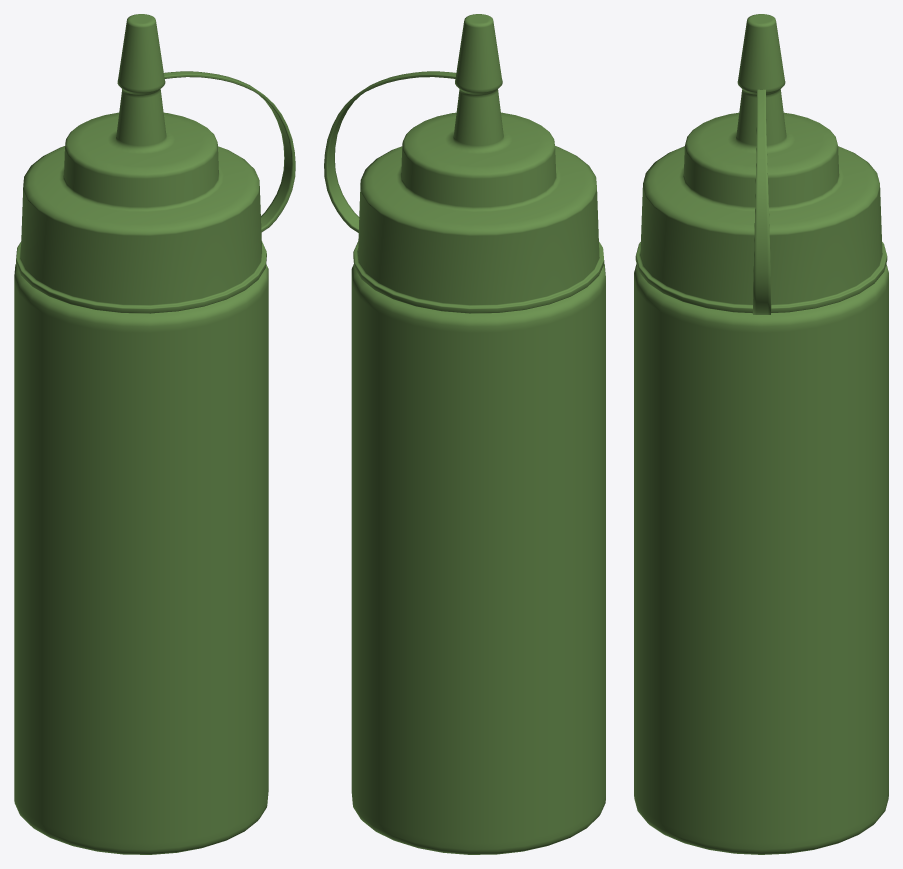
Rendered from sauce.fbx.
3 renders of one model, left to right at view 1: azimuth 30°, elevation 25°; view 2: azimuth 150°, elevation 25°; view 3: azimuth 270°, elevation 25°, orthographic.
Parts seen in each view (by area): view 1: 酱; view 2: 酱; view 3: 酱.
Part boxes in pixels (bbox=[...]): 酱: bbox=[14, 14, 295, 854]; 酱: bbox=[324, 14, 605, 854]; 酱: bbox=[634, 14, 888, 854].
Size of the model in its own units: 2.13 by 1.81 by 6.13.
